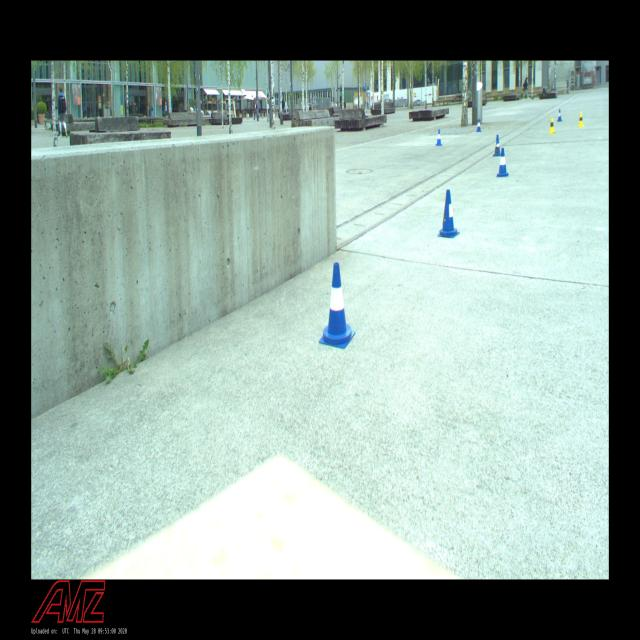blue_cone: (319, 262, 355, 348), (437, 189, 459, 238), (496, 148, 508, 178), (493, 135, 502, 156), (434, 129, 443, 146), (476, 118, 482, 132), (557, 108, 562, 122)
yellow_cone: (548, 117, 556, 134), (577, 112, 585, 127)
